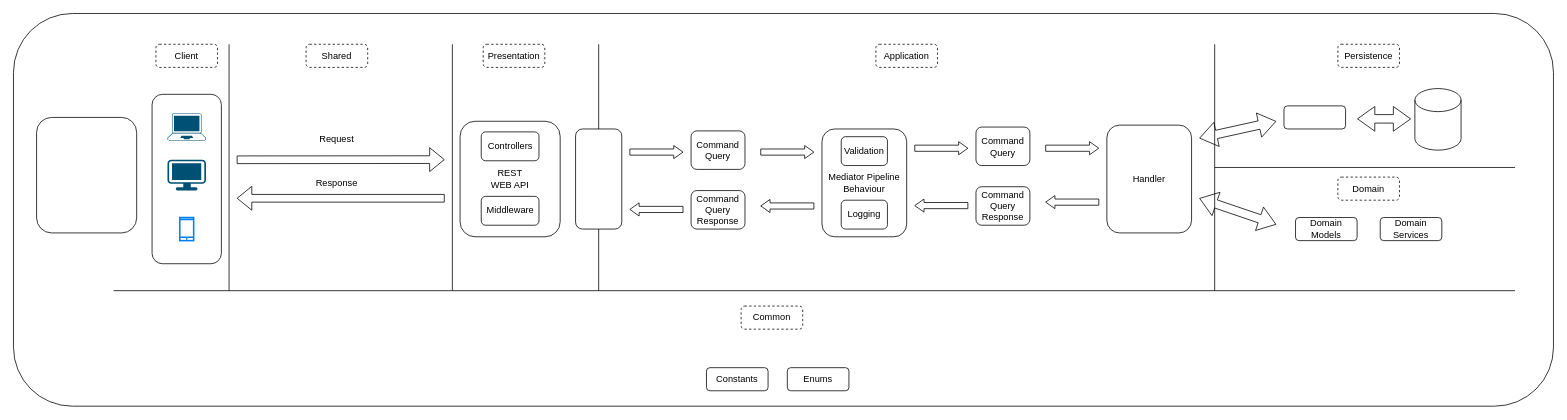
This 1567x420 diagram has some shape labels left out. The shapes that lost their labels are listed below. From the top down, each one's centre as x and y in pixels, then its label:
At point 1314,117: "EF Core".
At point 1437,119: "Database".
At point 86,175: "Blazor Web Assembly Application".
At point 598,178: "Mediator".
